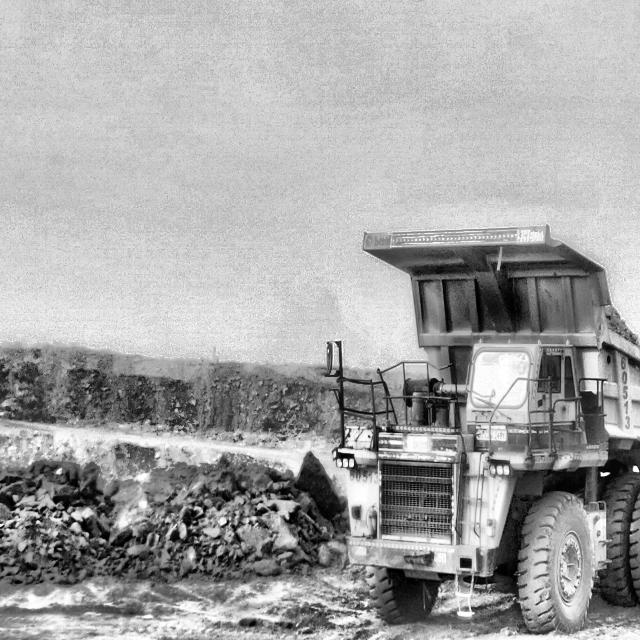dump_truck: (328, 227, 640, 633)
